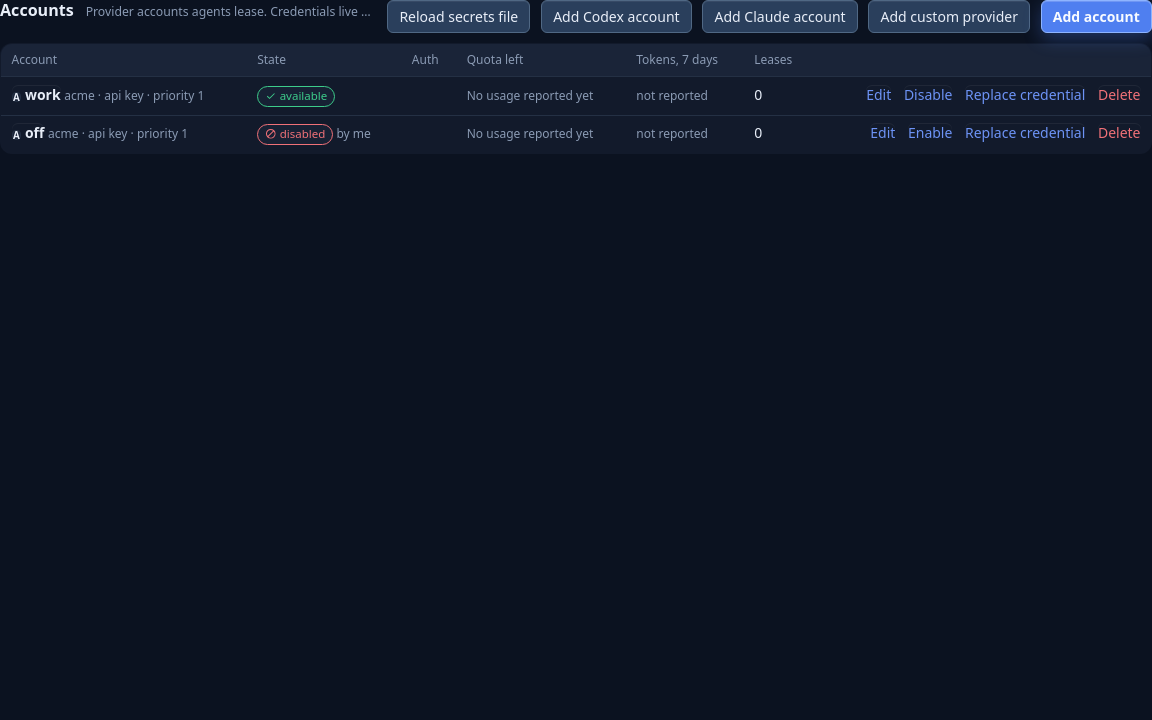
Test case: account row actions › edits only changed fields, shows no credential, and refreshes the list
Click the button with aria-label "Edit work". click: (879, 95)
box: [866, 85, 891, 105]
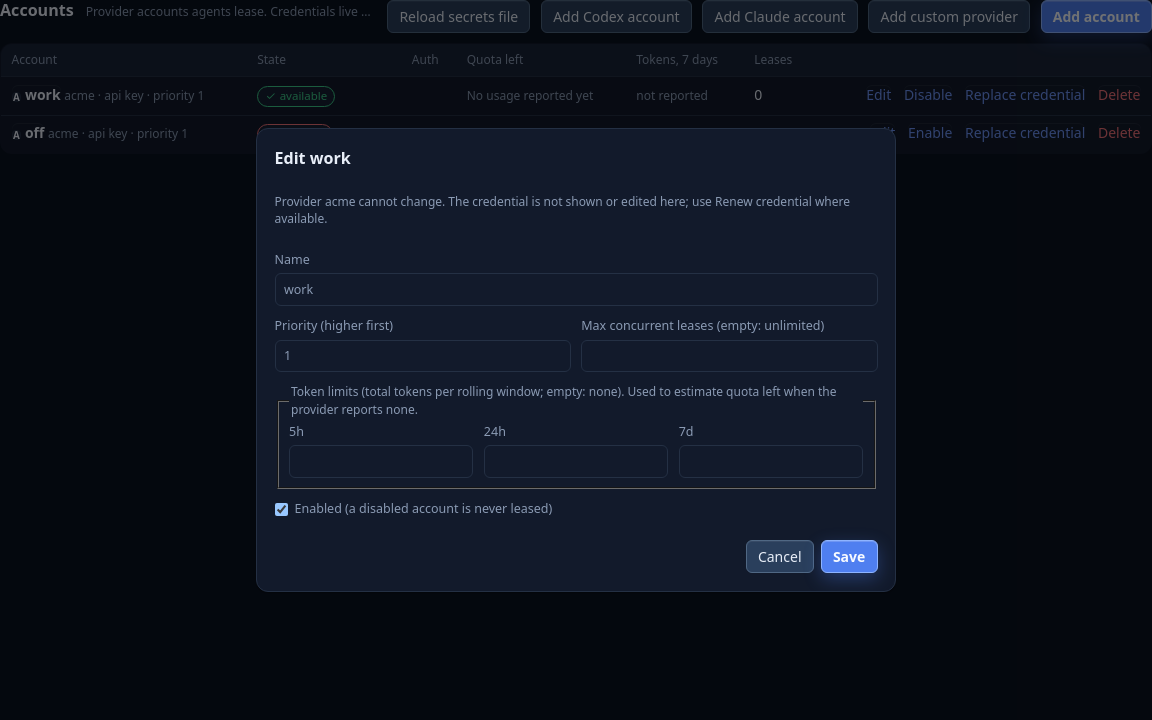
Replace the text in the field labelled "Name" with "work2". click: (576, 290)
box: [274, 273, 878, 306]
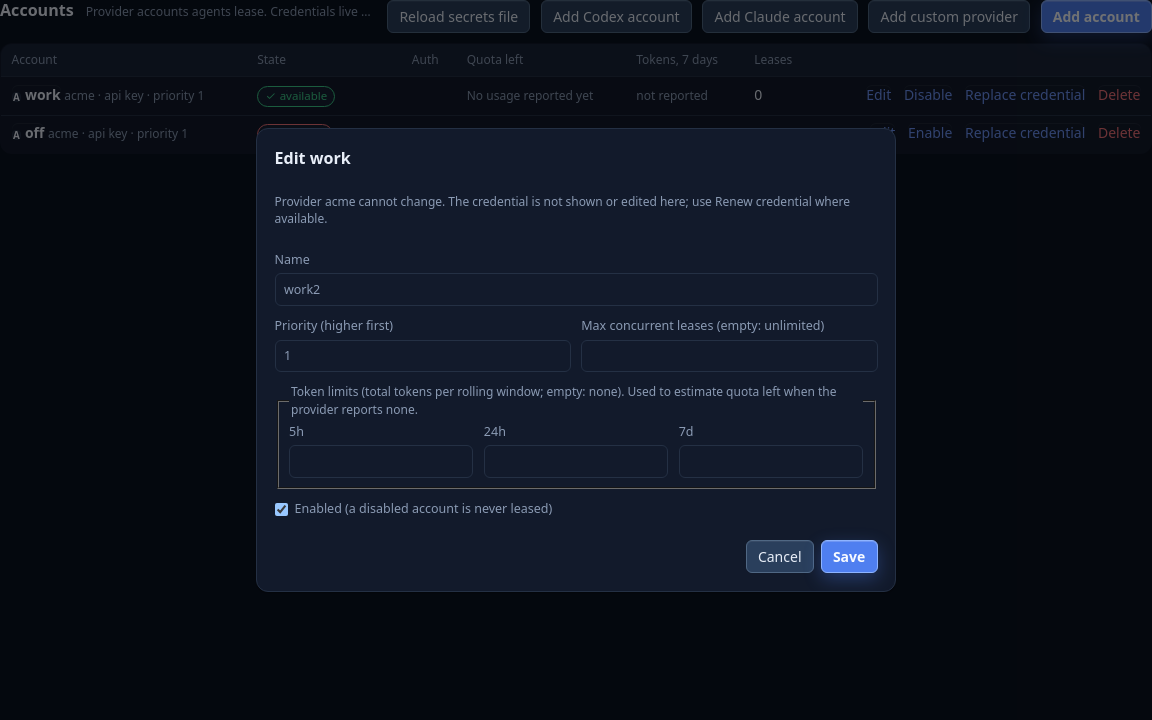
Type "3" into the number field labelled "Max concurrent leases (empty: unlimited)". click: (729, 356)
box: [581, 340, 878, 372]
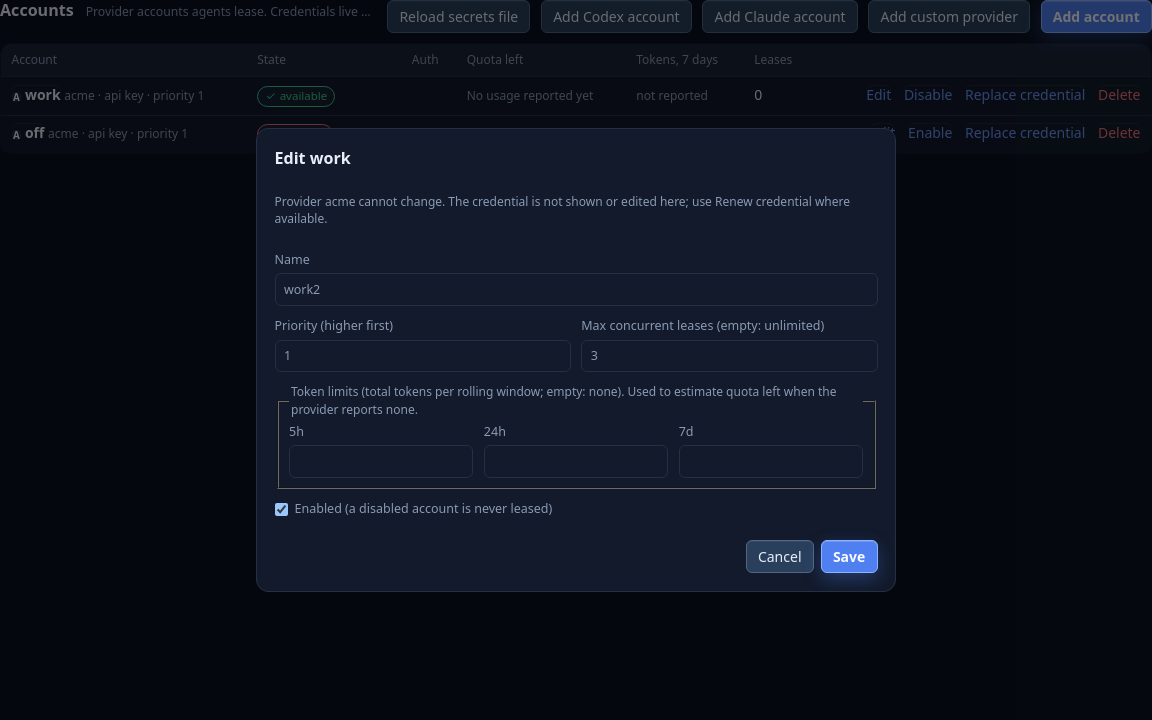
Click the checkbox. click: (281, 509)
box: [274, 503, 288, 516]
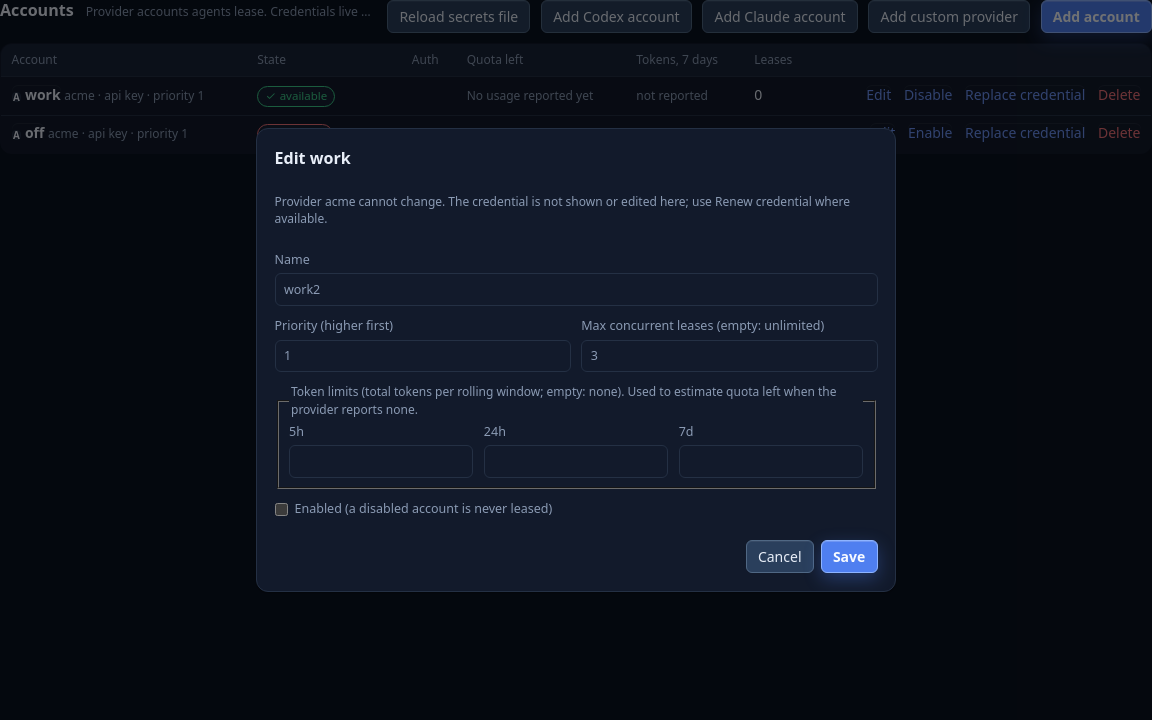
Click the button "Save". click: (849, 557)
box: [821, 540, 878, 573]
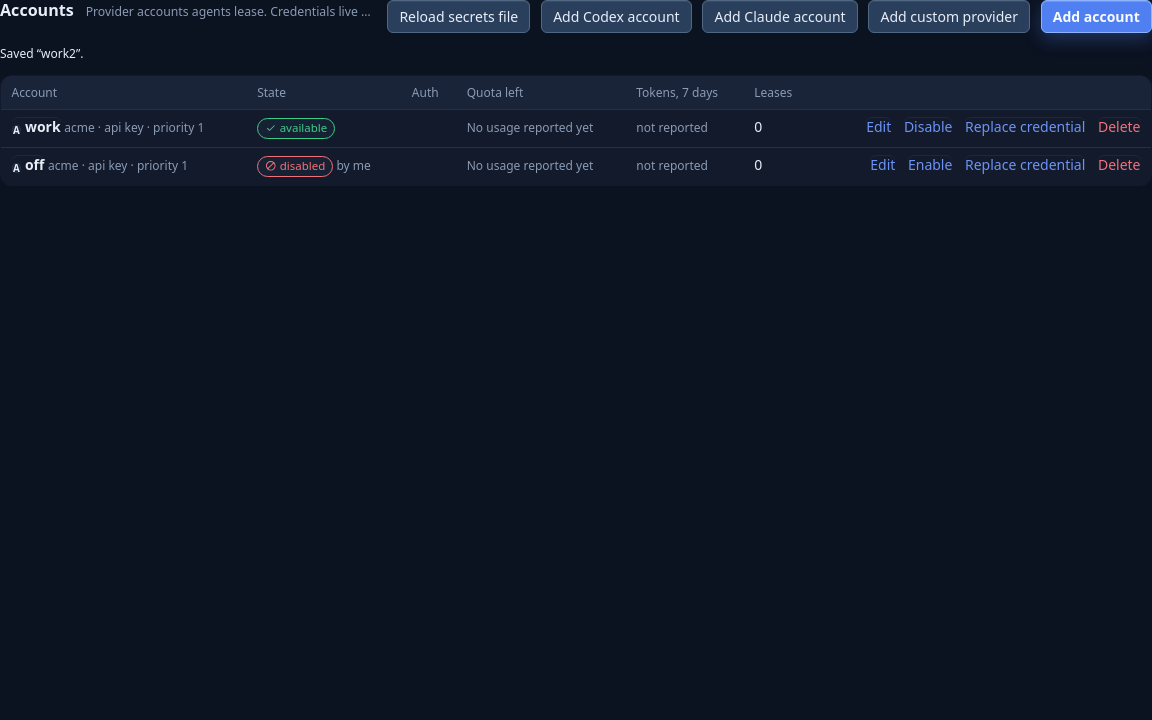
Result: the heading "Edit work" is gone
Result: the text "Saved “work2”." is shown at [0, 46, 83, 62]
